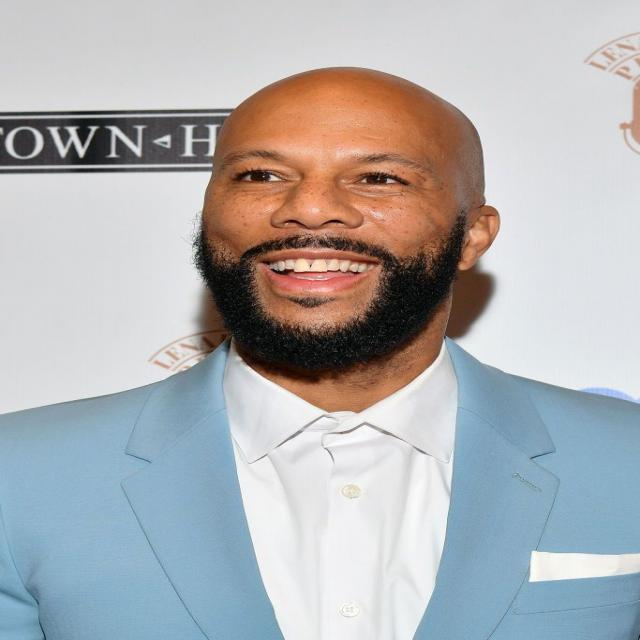beard: (193, 216, 467, 372)
